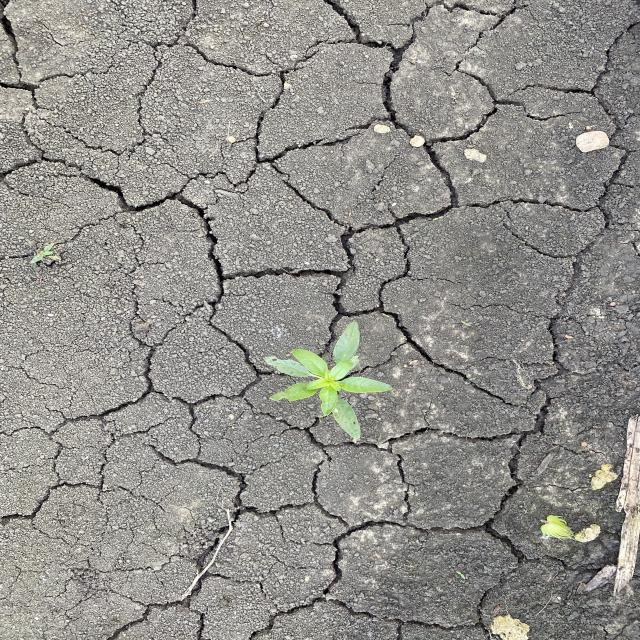Waterhemp: (261, 319, 395, 442)
